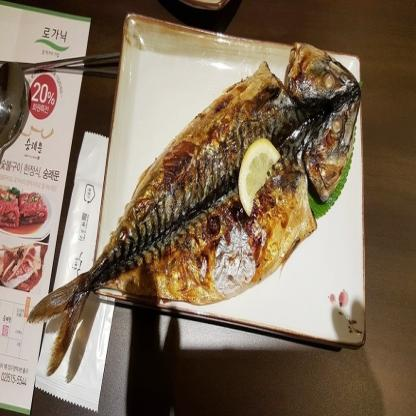Peixe: (34, 51, 364, 395)
